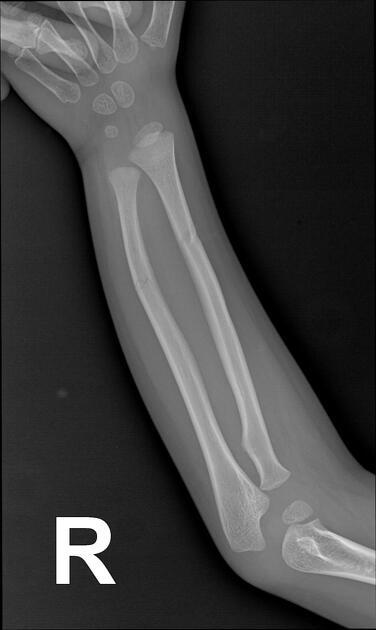fractured: (130, 274, 162, 292), (172, 226, 199, 247)
